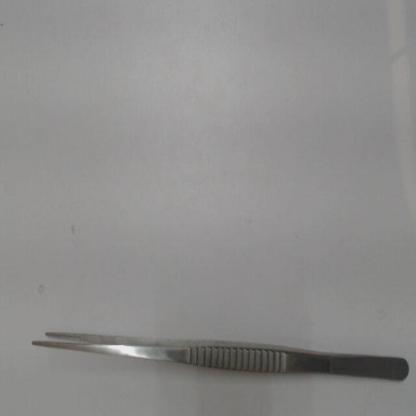DeBakey Dissector: (22, 323, 412, 396)
